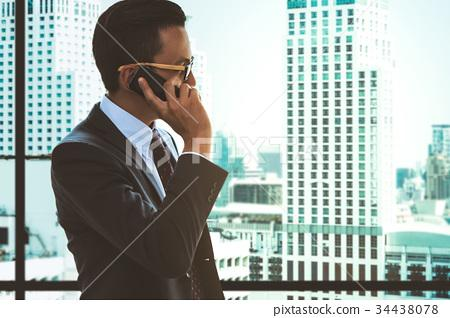phone: (129, 68, 193, 108)
talk: (123, 53, 214, 151)
